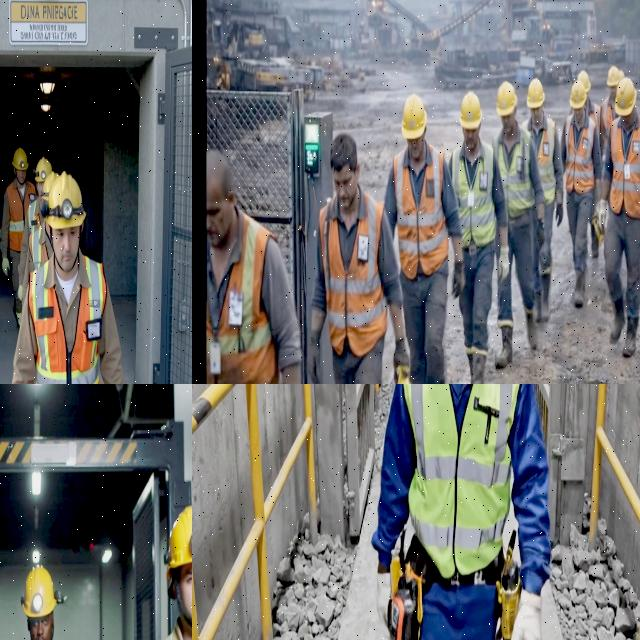Vest: (404, 384, 519, 578), (207, 213, 279, 383), (319, 194, 387, 356), (29, 257, 105, 383), (393, 145, 448, 279), (451, 142, 495, 248), (493, 126, 534, 218), (609, 120, 639, 218), (565, 115, 595, 194), (6, 182, 34, 251), (536, 117, 555, 204), (29, 227, 47, 270), (28, 200, 40, 231), (167, 634, 172, 639)
Worker: (372, 384, 549, 639), (308, 133, 408, 383), (12, 173, 124, 383), (385, 94, 464, 383), (206, 151, 301, 383), (449, 91, 508, 383), (493, 82, 544, 350), (598, 78, 639, 357), (523, 79, 563, 322), (561, 80, 601, 308), (1, 148, 35, 323), (18, 172, 58, 299), (18, 158, 52, 300), (166, 507, 191, 639), (22, 566, 64, 639), (599, 66, 622, 155), (578, 71, 600, 136), (0, 228, 0, 240)
helmet: (21, 566, 65, 618), (46, 172, 85, 228), (165, 507, 191, 586), (402, 94, 426, 139), (615, 77, 636, 115), (460, 91, 481, 129), (497, 82, 517, 116), (41, 171, 58, 203), (527, 79, 544, 108), (570, 80, 586, 109), (35, 158, 51, 182), (12, 148, 28, 170), (391, 367, 410, 383), (578, 71, 591, 94), (607, 66, 620, 87), (619, 69, 624, 80)
